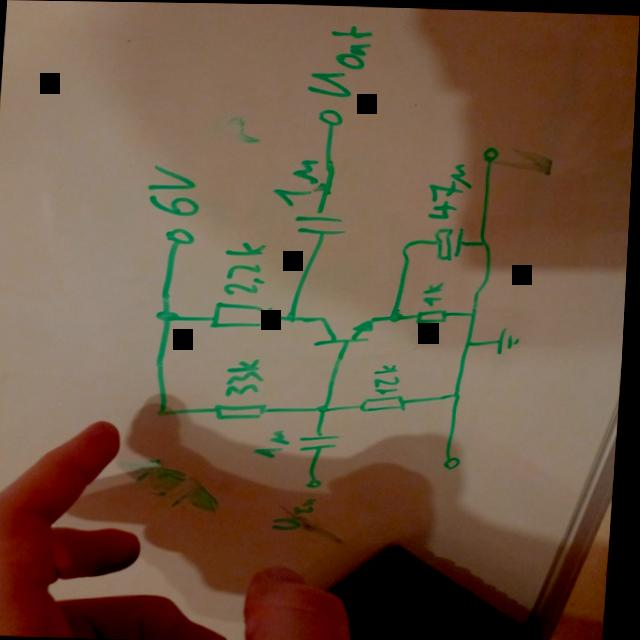capacitor: (291, 206, 348, 244), (296, 426, 347, 460), (429, 223, 468, 263)
ground: (493, 324, 527, 355)
junction: (152, 306, 183, 327), (398, 237, 417, 253), (386, 309, 407, 323), (316, 402, 334, 418), (283, 309, 300, 324), (450, 389, 466, 401), (465, 309, 482, 319), (478, 237, 492, 249), (155, 407, 170, 418), (462, 337, 476, 348)
resistor: (205, 300, 278, 334), (212, 398, 273, 422), (356, 393, 409, 415), (412, 306, 451, 324)
terminal: (161, 225, 200, 249), (312, 104, 347, 129), (479, 143, 504, 163), (443, 452, 466, 471), (306, 475, 326, 490)
text: (303, 22, 377, 100), (145, 163, 206, 219), (218, 239, 274, 300), (424, 159, 476, 221), (269, 153, 322, 209), (221, 355, 270, 400), (272, 494, 320, 534), (254, 425, 294, 460), (372, 362, 402, 394), (419, 278, 446, 306)
transistor: (308, 311, 381, 353)
